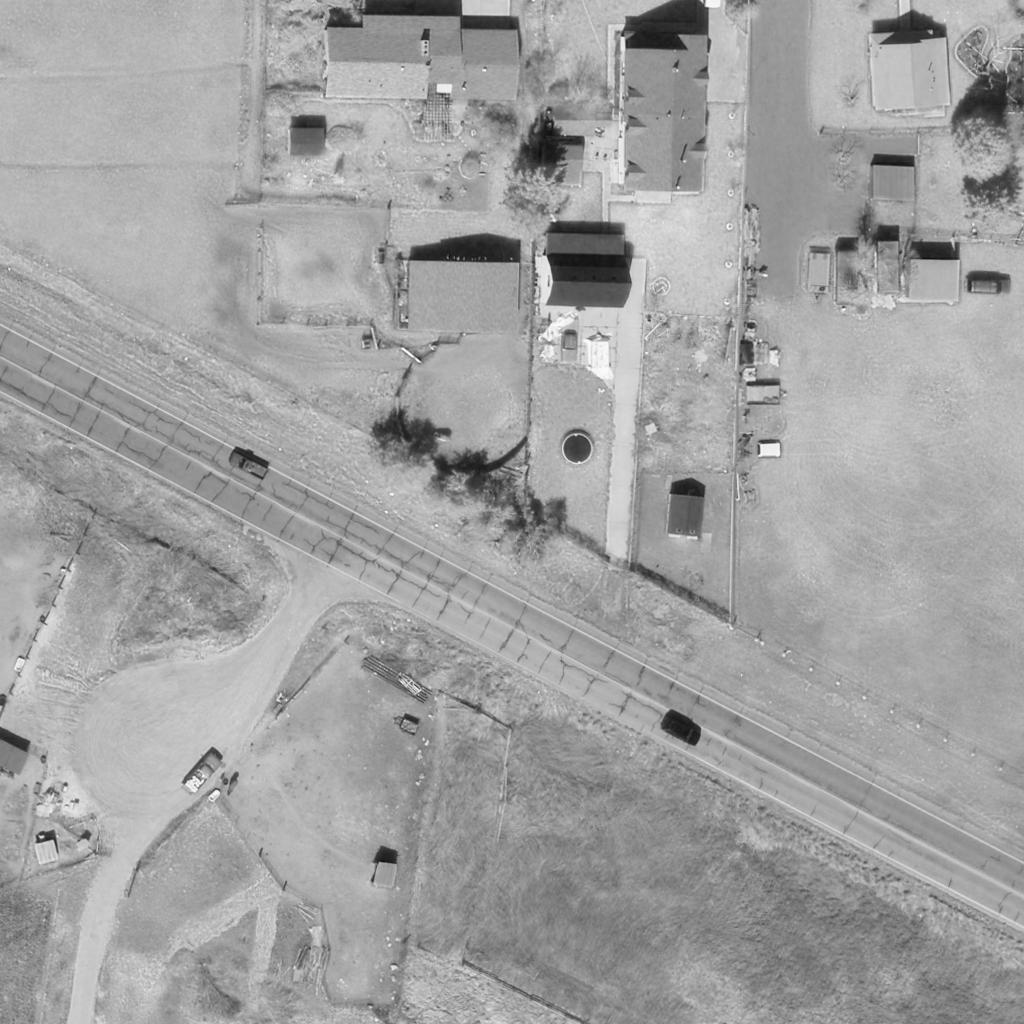vehicle: (179, 753, 223, 797), (833, 251, 863, 305), (658, 714, 706, 744), (875, 241, 901, 293), (228, 451, 270, 481), (968, 273, 1014, 293)
